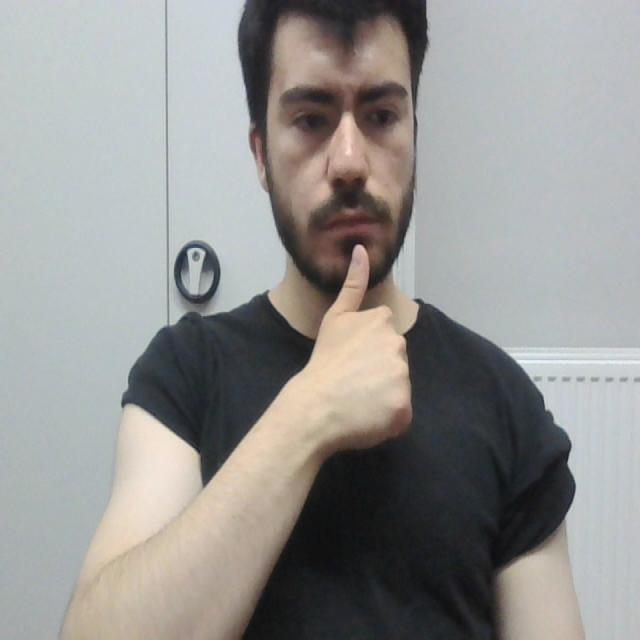Baba: (318, 203, 406, 314)
